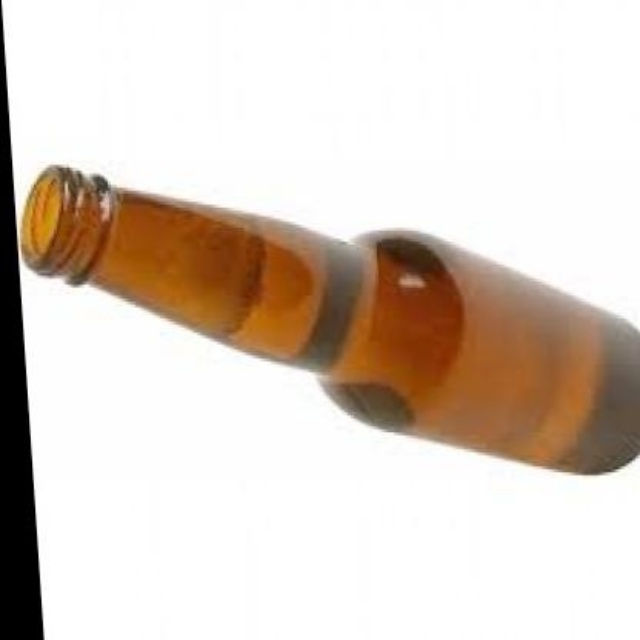trash: (20, 166, 638, 472)
